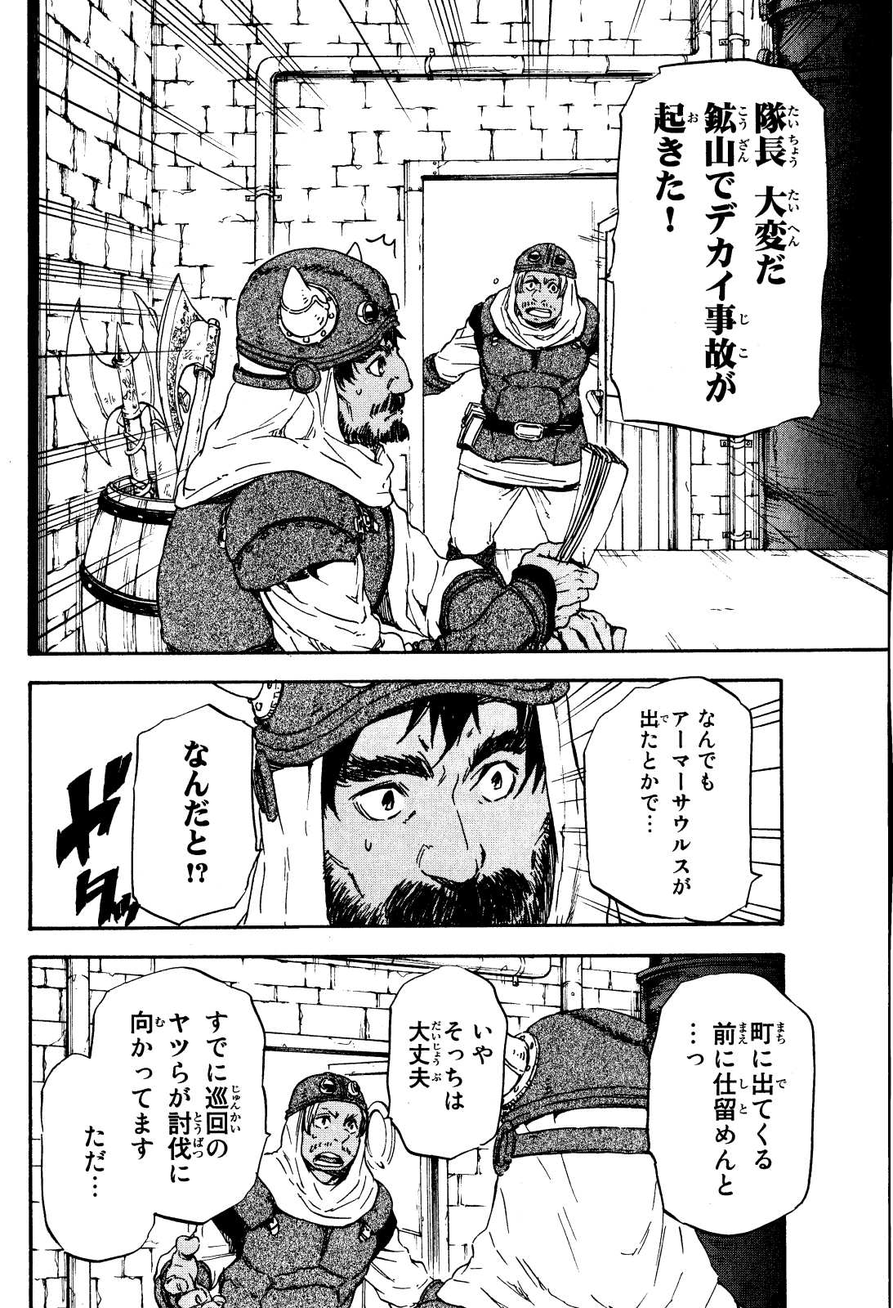bubbles: (595, 51, 831, 446), (37, 969, 275, 1267), (643, 970, 820, 1243), (578, 680, 766, 923), (123, 702, 262, 925), (371, 961, 515, 1168)
